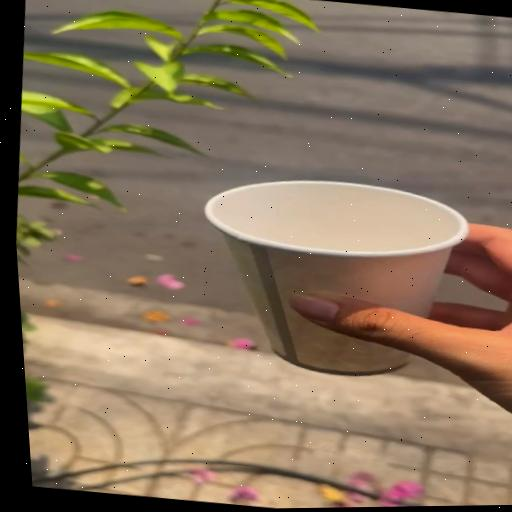Ly_giay: (205, 181, 468, 375)
